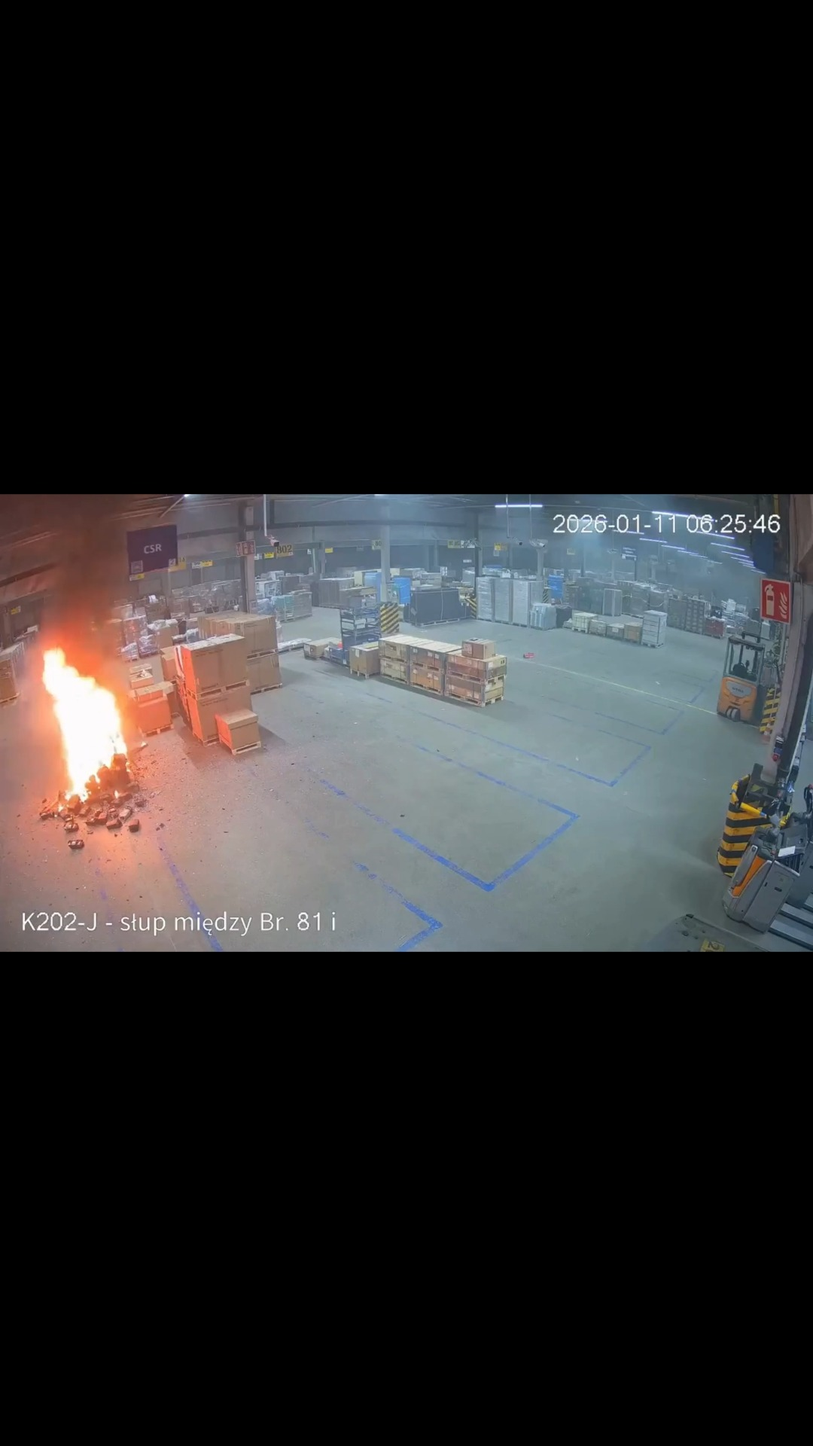fire: (40, 645, 133, 812)
smoke: (14, 496, 151, 679)
